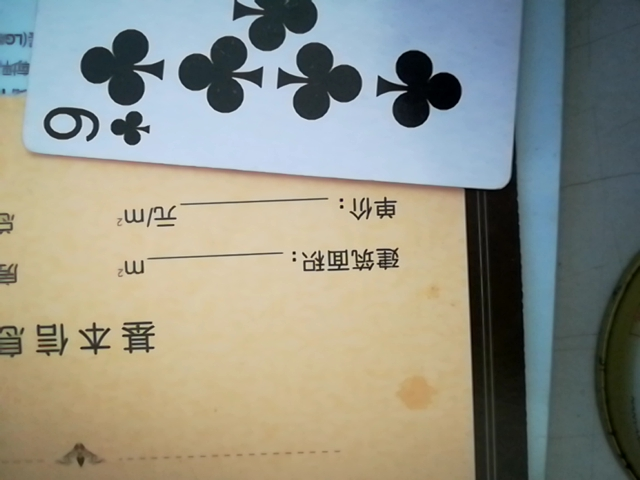mh 9: (5, 0, 536, 190)
